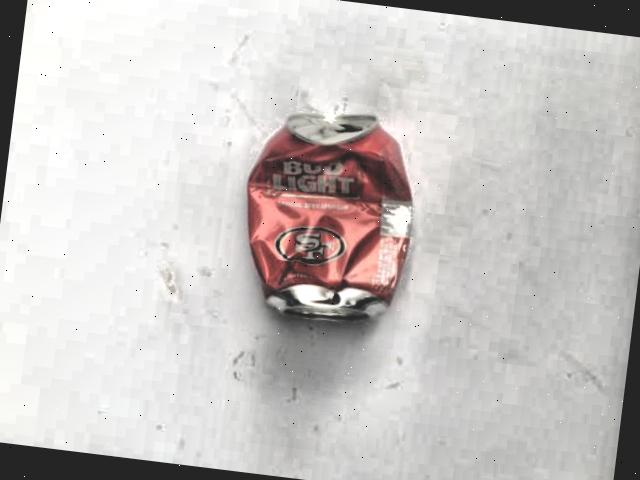Bottles: (220, 88, 472, 360)
